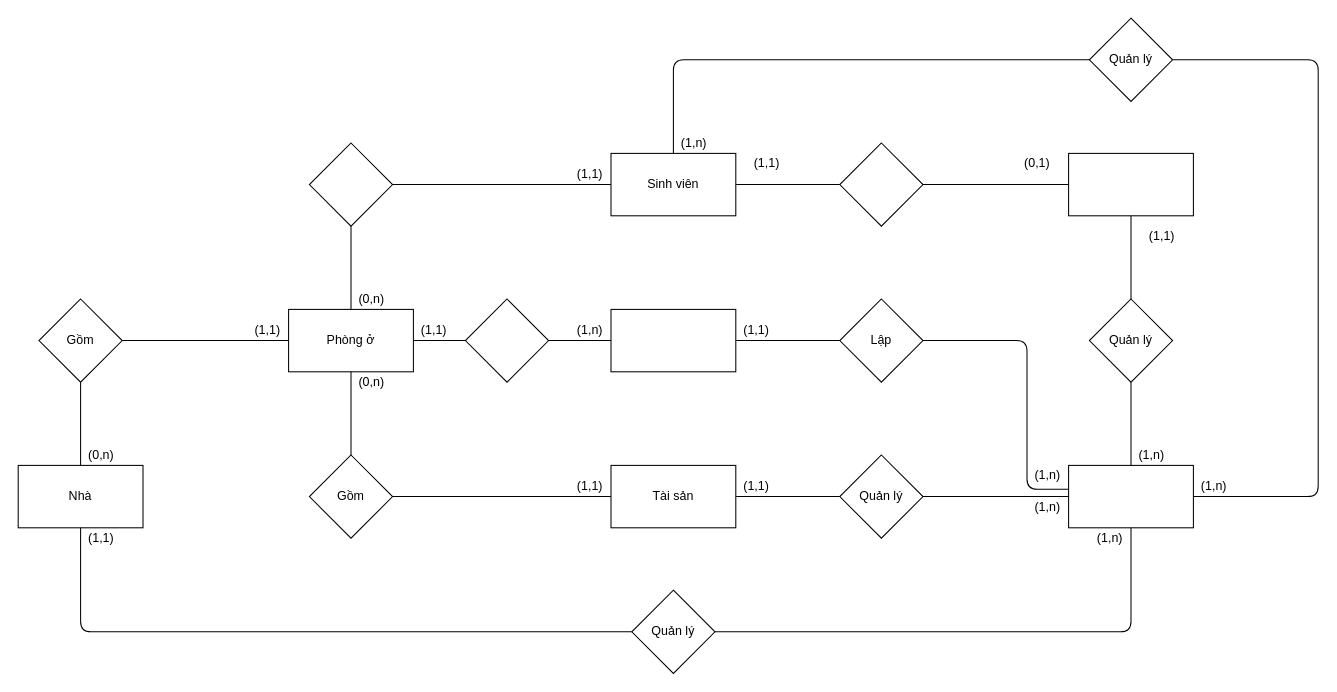
The diagram is 1337 pixels wide and 692 high, and some of its shapes have lost their labels. Here are the shapes that lost their labels. From the top down, the box of each, then its label:
(308, 142, 393, 226): Thuộc
(839, 142, 923, 226): Đăng ký
(1068, 152, 1193, 216): Hợp đồng
(464, 298, 549, 382): Có
(610, 308, 736, 372): Phiếu thu
(1068, 464, 1193, 528): Cán bộ
